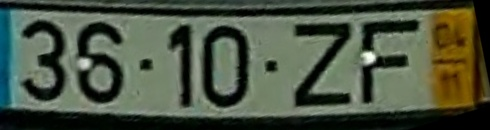0: (198, 19, 251, 111)
1: (165, 21, 196, 111)
3: (16, 16, 69, 106)
6: (73, 17, 128, 109)
F: (359, 16, 423, 108)
Z: (290, 19, 356, 110)
